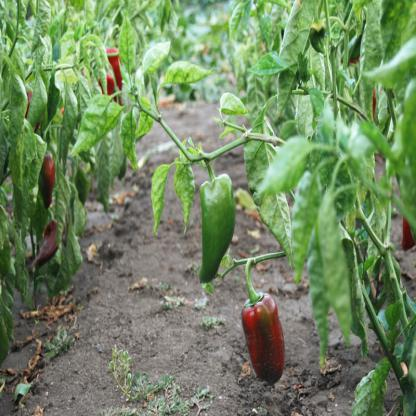capsicum: (238, 246, 303, 402)
